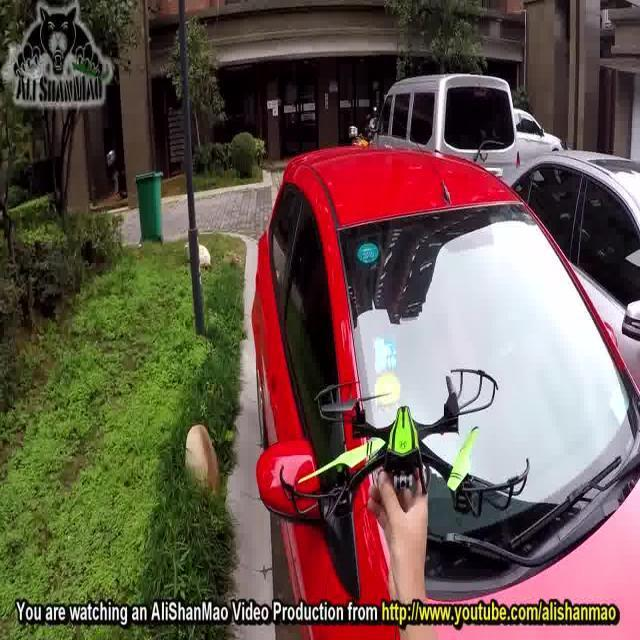drone: (276, 362, 530, 524)
